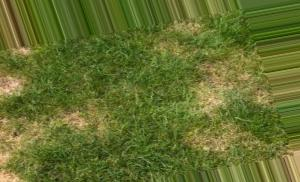patch: (2, 120, 44, 141), (201, 88, 233, 110), (4, 77, 24, 95), (203, 130, 242, 137)
